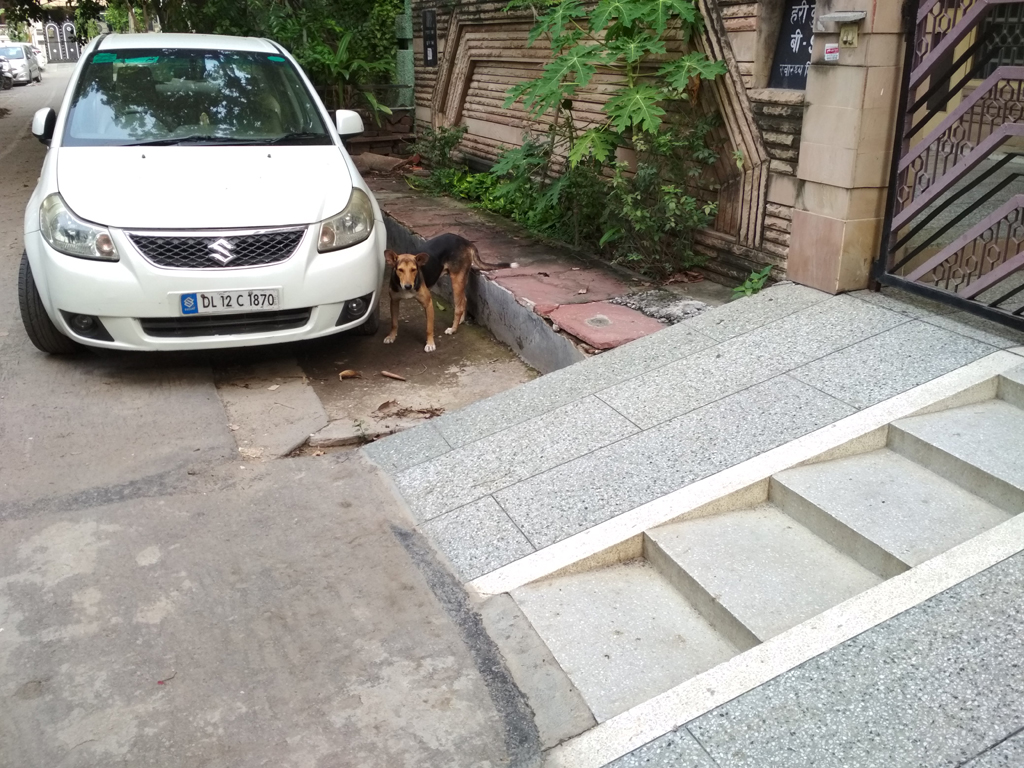dog: (384, 233, 519, 352)
